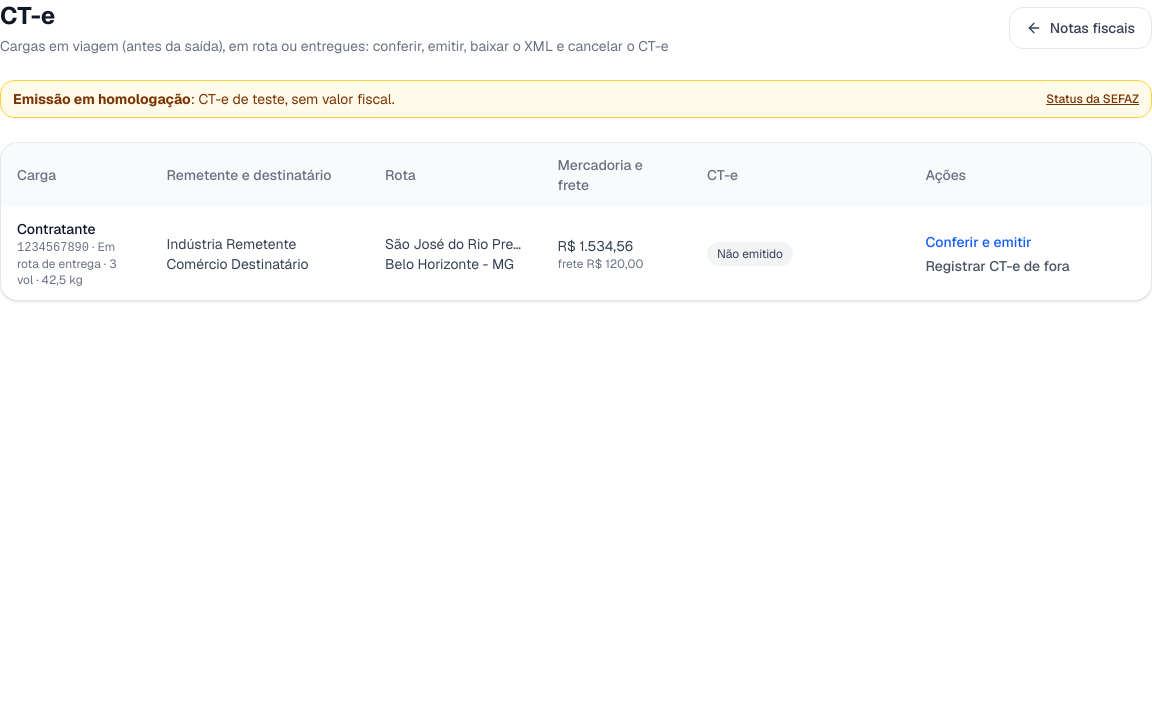
Test case: conferência do CT-e: tipo de serviço, documento anterior, expedidor e recebedor › serviço normal sem expedidor nem recebedor: a conferência é a de sempre, sem linha nova
Click the button "Conferir e emitir". click: (979, 242)
box: top-left (926, 232), bottom-right (1032, 252)
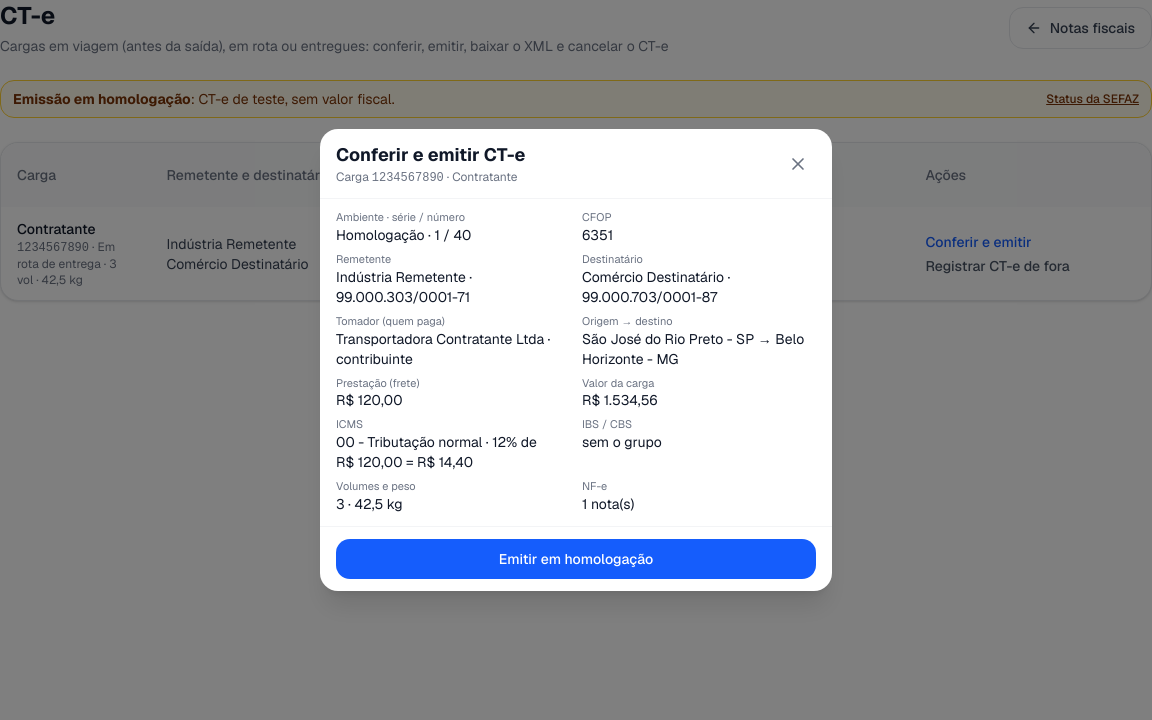
Now the element that starts with "Ambiente · série / número" is shown, box top-left (336, 211), bottom-right (816, 514)
Now the button "Emitir em homologação" is enabled, box top-left (336, 539), bottom-right (816, 579)
